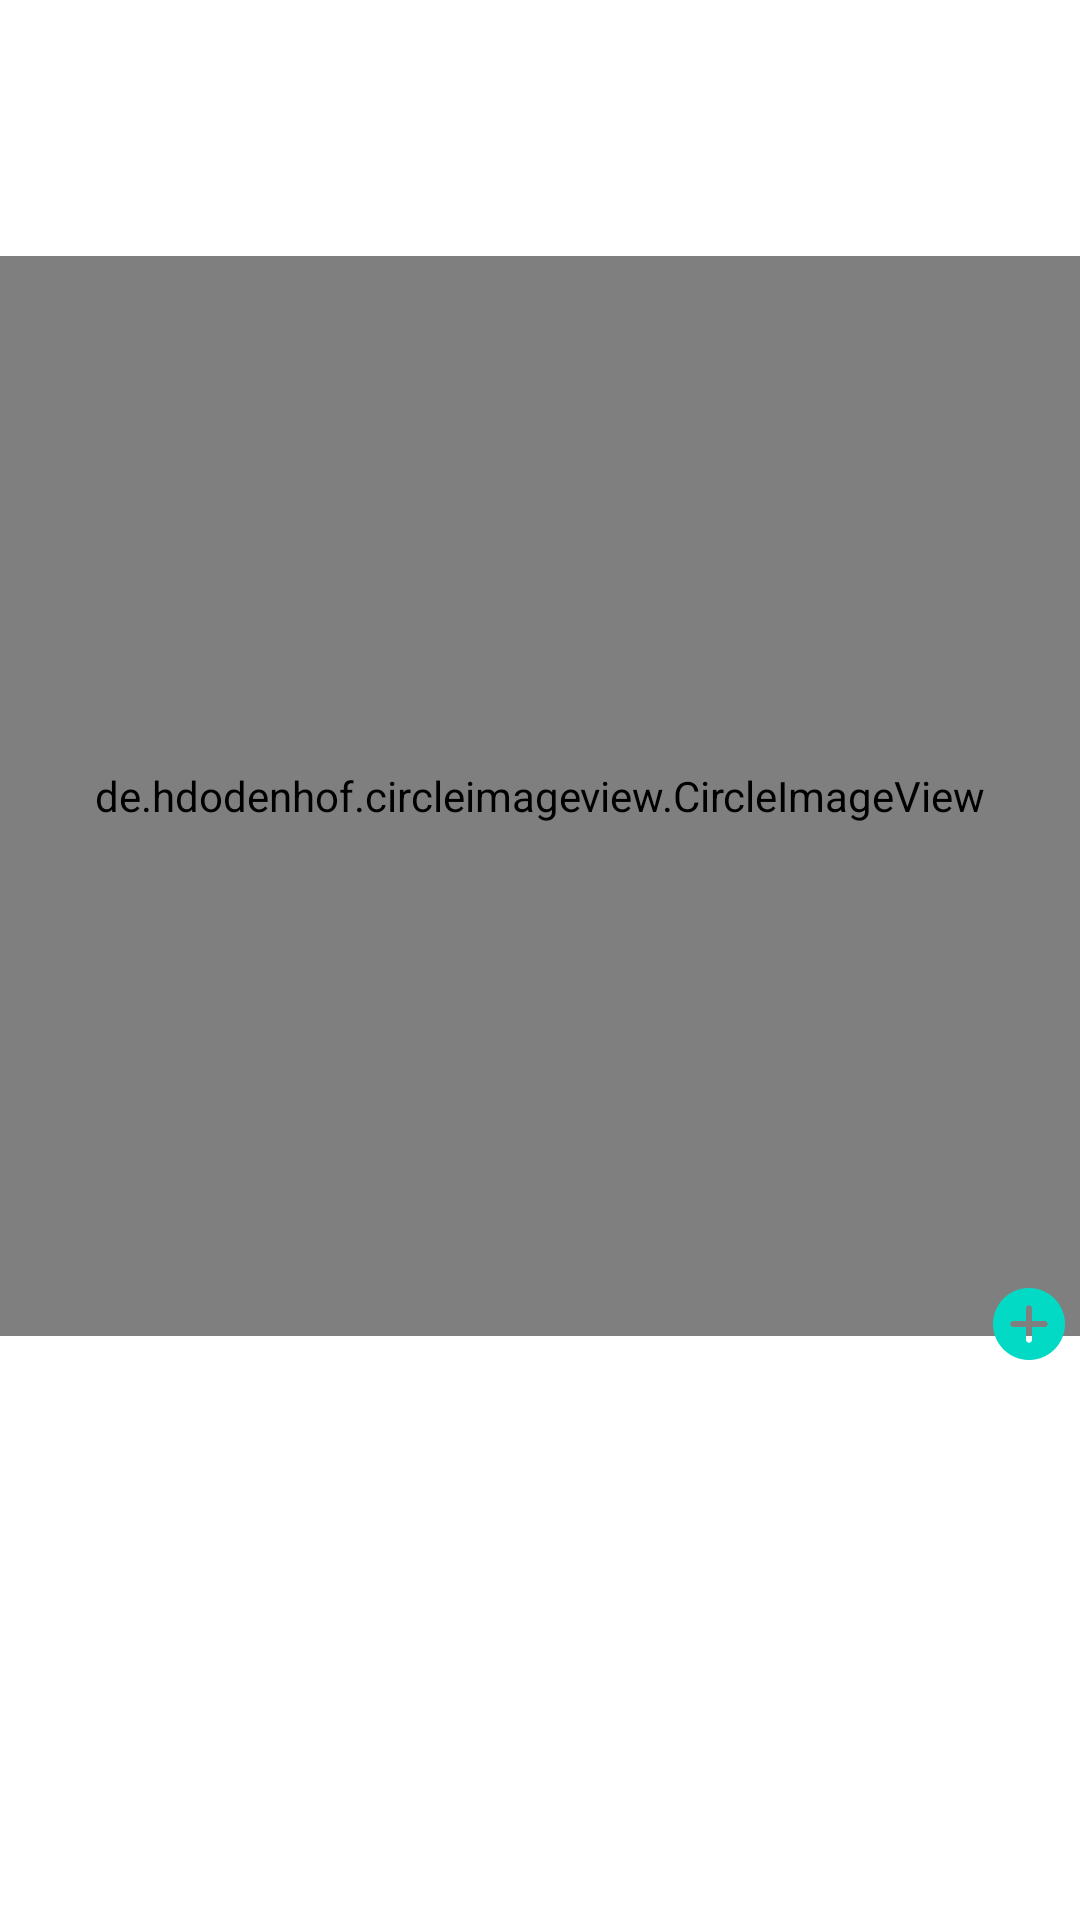

Icon click points for this 1080*1920 phone screenshot, format point (x, y):
plus: point (1029, 1324)
